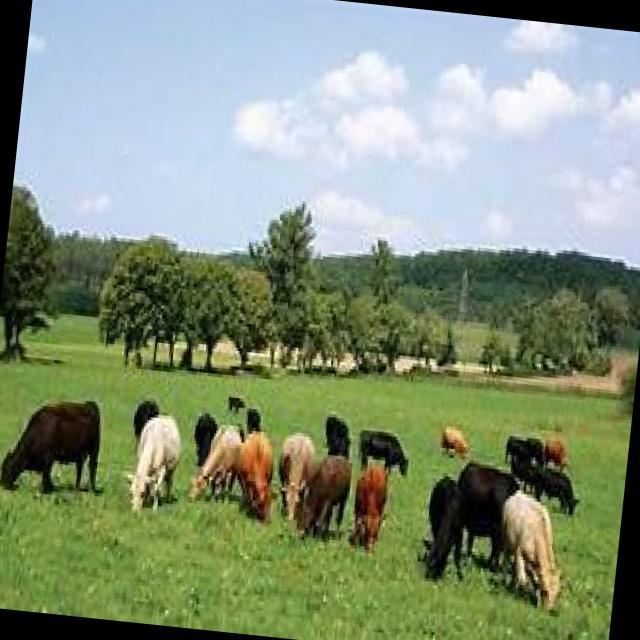cow: (0, 389, 107, 499), (492, 486, 572, 610), (408, 472, 472, 596), (124, 408, 185, 516), (301, 449, 355, 542), (228, 432, 281, 522), (186, 424, 242, 504), (273, 428, 319, 522), (350, 460, 392, 554), (526, 464, 588, 516), (356, 426, 414, 476), (323, 414, 355, 456), (441, 422, 472, 460), (540, 430, 572, 466), (246, 405, 264, 434), (227, 394, 248, 414)
